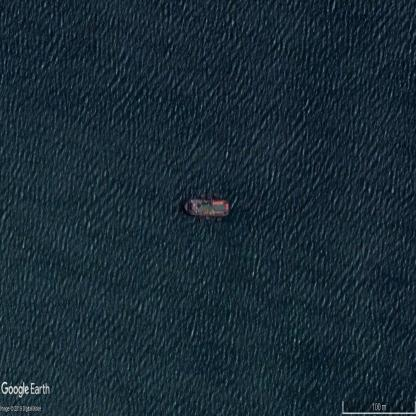ship: (185, 199, 229, 217)
